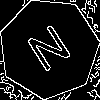N: (24, 23, 79, 81)
